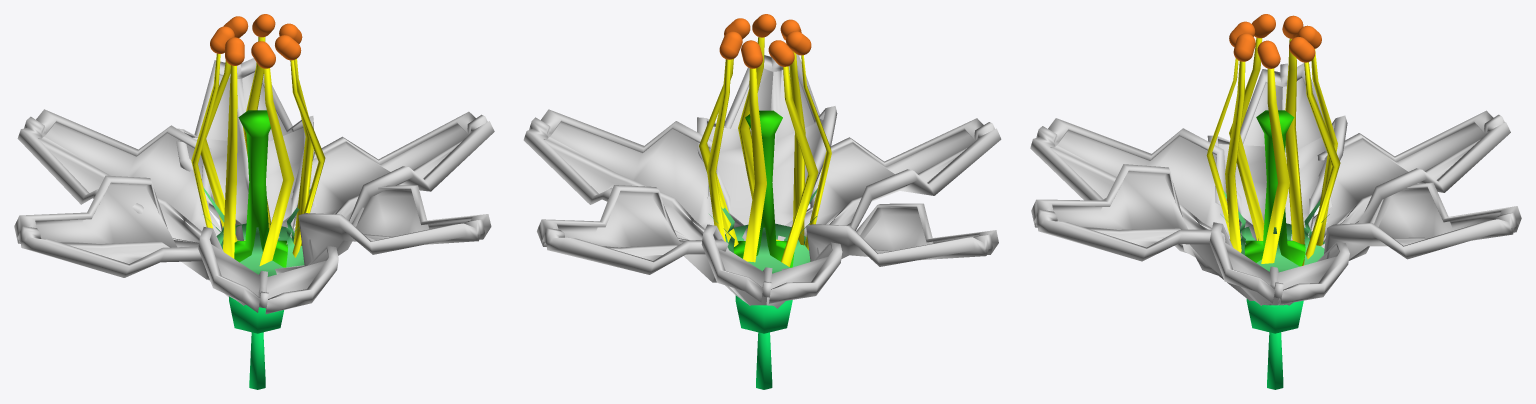
Rendered from lily.glb.
The picture shows the model from 3 angles, left to right: view 1: azimuth 30°, elevation 25°; view 2: azimuth 150°, elevation 25°; view 3: azimuth 270°, elevation 25°; orthographic projection.
Parts seen in each view (by area): view 1: Circle.003, Circle.002, Circle.008, Circle, Circle.007, Circle.001, Circle.009, Circle.006, Circle.005, Circle.010, Circle.004, Sphere.004 (+4 smaller); view 2: Circle.003, Circle, Circle.005, Circle.002, Circle.006, Circle.001, Circle.004, Circle.008, Circle.009, Circle.007, Circle.010, Sphere.002 (+4 smaller); view 3: Circle.003, Circle.002, Circle, Circle.010, Circle.006, Circle.009, Circle.007, Circle.004, Circle.001, Circle.005, Circle.008, Sphere.006 (+3 smaller).
Part boxes in pixels (bbox=[...]): Circle.003: bbox=[14, 58, 494, 314]; Circle.002: bbox=[234, 110, 287, 267]; Circle.008: bbox=[259, 68, 294, 265]; Circle: bbox=[229, 296, 283, 389]; Circle.007: bbox=[223, 65, 237, 258]; Circle.001: bbox=[203, 188, 310, 276]; Circle.009: bbox=[290, 60, 325, 257]; Circle.006: bbox=[191, 53, 220, 228]; Circle.005: bbox=[201, 60, 237, 242]; Circle.010: bbox=[293, 59, 313, 245]; Circle.004: bbox=[238, 37, 270, 240]; Sphere.004: bbox=[251, 41, 275, 68]; Circle.003: bbox=[523, 54, 1001, 308]; Circle: bbox=[735, 295, 792, 389]; Circle.005: bbox=[743, 68, 766, 262]; Circle.002: bbox=[733, 110, 794, 267]; Circle.006: bbox=[781, 66, 818, 266]; Circle.001: bbox=[709, 187, 817, 273]; Circle.004: bbox=[707, 59, 730, 241]; Circle.008: bbox=[776, 51, 805, 245]; Circle.009: bbox=[738, 37, 764, 199]; Circle.007: bbox=[801, 55, 831, 250]; Circle.010: bbox=[699, 59, 738, 246]; Sphere.002: bbox=[768, 40, 794, 66]; Circle.003: bbox=[1030, 63, 1521, 305]; Circle.002: bbox=[1244, 110, 1305, 266]; Circle: bbox=[1246, 299, 1303, 389]; Circle.010: bbox=[1261, 68, 1289, 263]; Circle.006: bbox=[1285, 38, 1304, 244]; Circle.009: bbox=[1225, 61, 1245, 252]; Circle.007: bbox=[1229, 37, 1264, 240]; Circle.004: bbox=[1302, 62, 1340, 265]; Circle.001: bbox=[1220, 191, 1329, 272]; Circle.005: bbox=[1311, 49, 1337, 245]; Circle.008: bbox=[1206, 58, 1238, 234]; Sphere.006: bbox=[1257, 40, 1280, 68].
Size of the model in its own units: 199 by 146 by 182.
